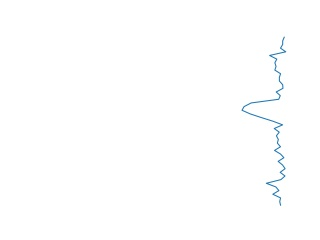interdistributaryEstuary: (238, 35, 292, 209)
